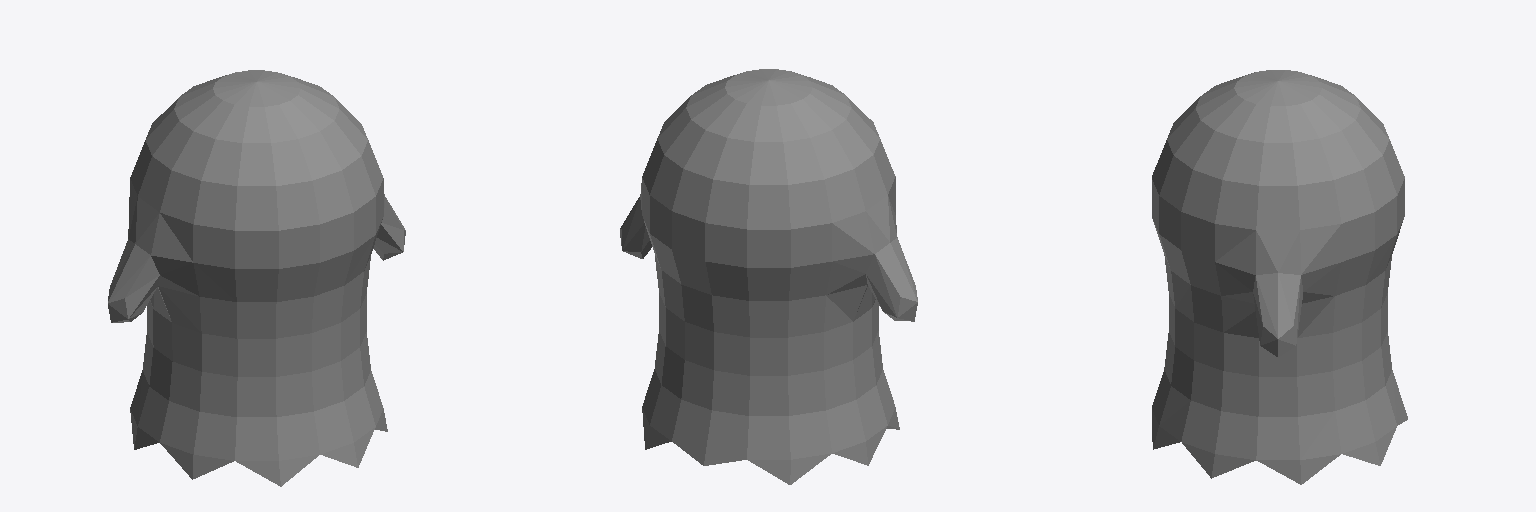
The model's file is spk_Ghost.obj.
The picture shows the model from 3 angles: view 1: azimuth 30°, elevation 25°; view 2: azimuth 150°, elevation 25°; view 3: azimuth 270°, elevation 25°; orthographic projection.
Visible parts, largest first — view 1: Sphere001; view 2: Sphere001; view 3: Sphere001.
Boxes of the visible parts, box(x1,y1,x2,y2) form: Sphere001: box(108, 70, 405, 486); Sphere001: box(620, 69, 917, 484); Sphere001: box(1152, 70, 1407, 484).
Size of the model in its own units: 13.4 by 15 by 9.98.